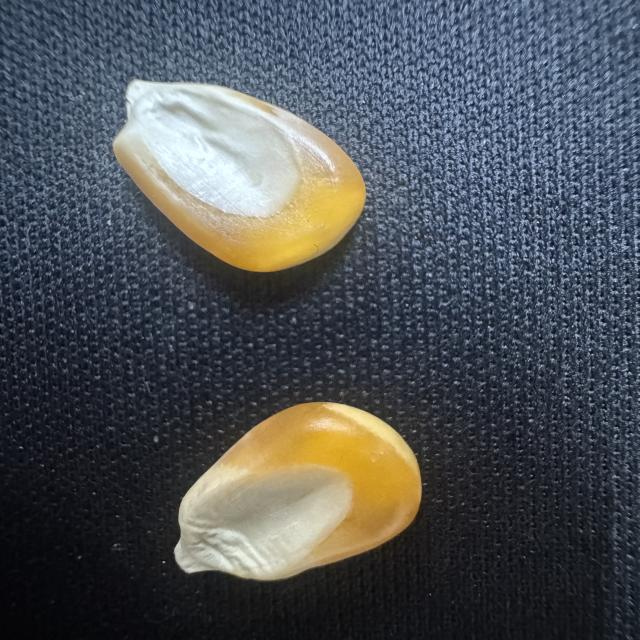Good-Seed: (98, 65, 378, 281), (161, 394, 431, 591)
